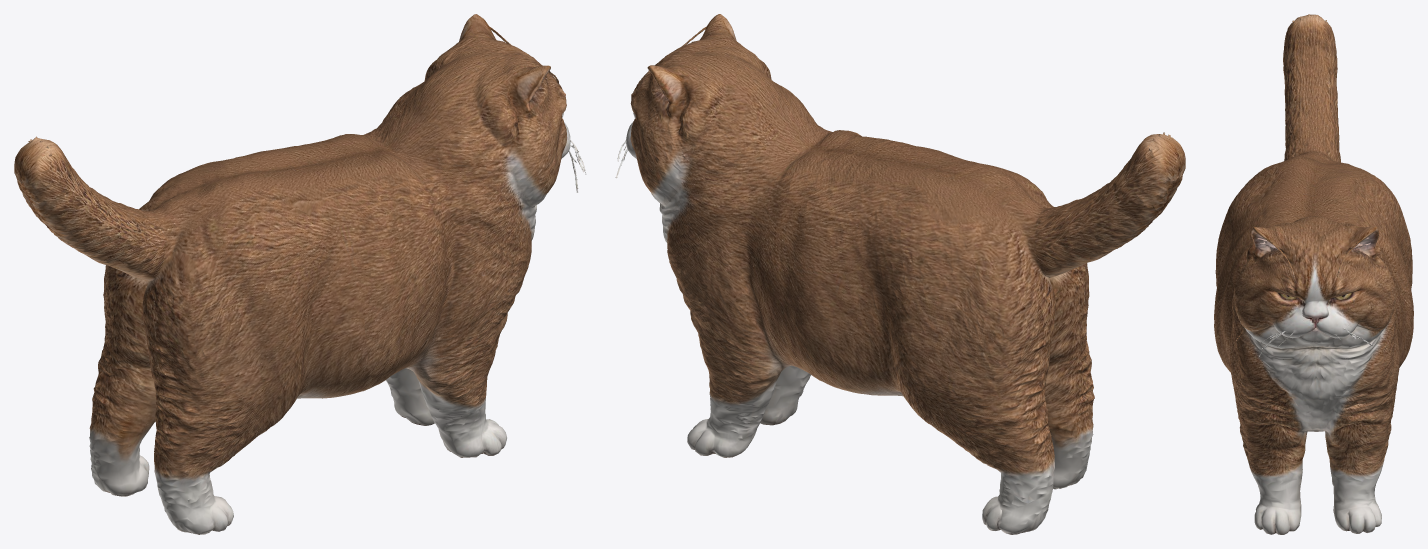
Rendered from PONTAKUN.glb.
3 views of the same model, side by side, from view 1: azimuth 30°, elevation 25°; view 2: azimuth 150°, elevation 25°; view 3: azimuth 270°, elevation 25° (orthographic). The views are drawn at different scales.
Parts seen in each view (by area): view 1: tripo_node_498bb738-63af-44ec-9286-51dead4b8a5f; view 2: tripo_node_498bb738-63af-44ec-9286-51dead4b8a5f; view 3: tripo_node_498bb738-63af-44ec-9286-51dead4b8a5f.
Boxes of the visible parts, x1,y1,x2,y2 form: tripo_node_498bb738-63af-44ec-9286-51dead4b8a5f: (14, 14, 586, 534); tripo_node_498bb738-63af-44ec-9286-51dead4b8a5f: (615, 14, 1185, 534); tripo_node_498bb738-63af-44ec-9286-51dead4b8a5f: (1214, 14, 1413, 534).
Size of the model in its own units: 1.42 by 0.9986 by 0.5306.
1 material, 1 textured.
